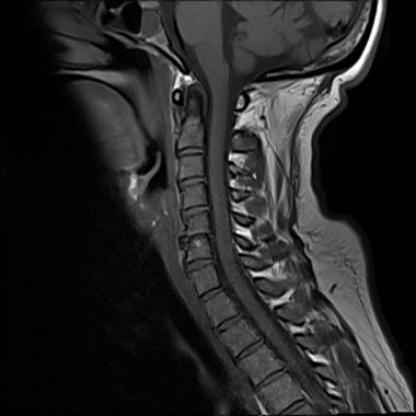Degenerative Disc Diseaserotation: (178, 231, 214, 246)
Disc Bulgerotation: (183, 256, 218, 275)
Disc Protrusionrotation: (178, 231, 215, 246), (180, 205, 213, 219)
